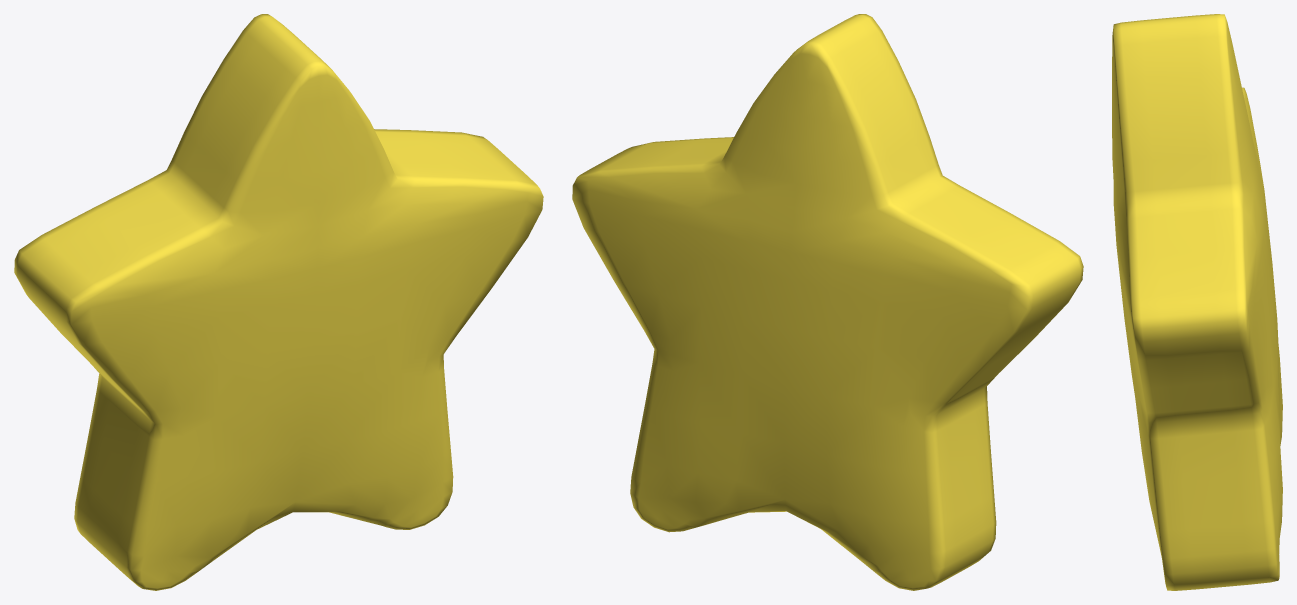
File: star.fbx
3 renders of one model, left to right at view 1: azimuth 30°, elevation 25°; view 2: azimuth 150°, elevation 25°; view 3: azimuth 270°, elevation 25°, orthographic. The views are drawn at different scales.
Parts seen in each view (by area): view 1: Star; view 2: Star; view 3: Star.
Boxes of the visible parts, x1=… form: Star: x1=14, y1=14, x2=543, y2=590; Star: x1=572, y1=14, x2=1083, y2=590; Star: x1=1112, y1=14, x2=1282, y2=590.
Bounding box in the file's own units: 21.66 × 22.86 × 6.93.
